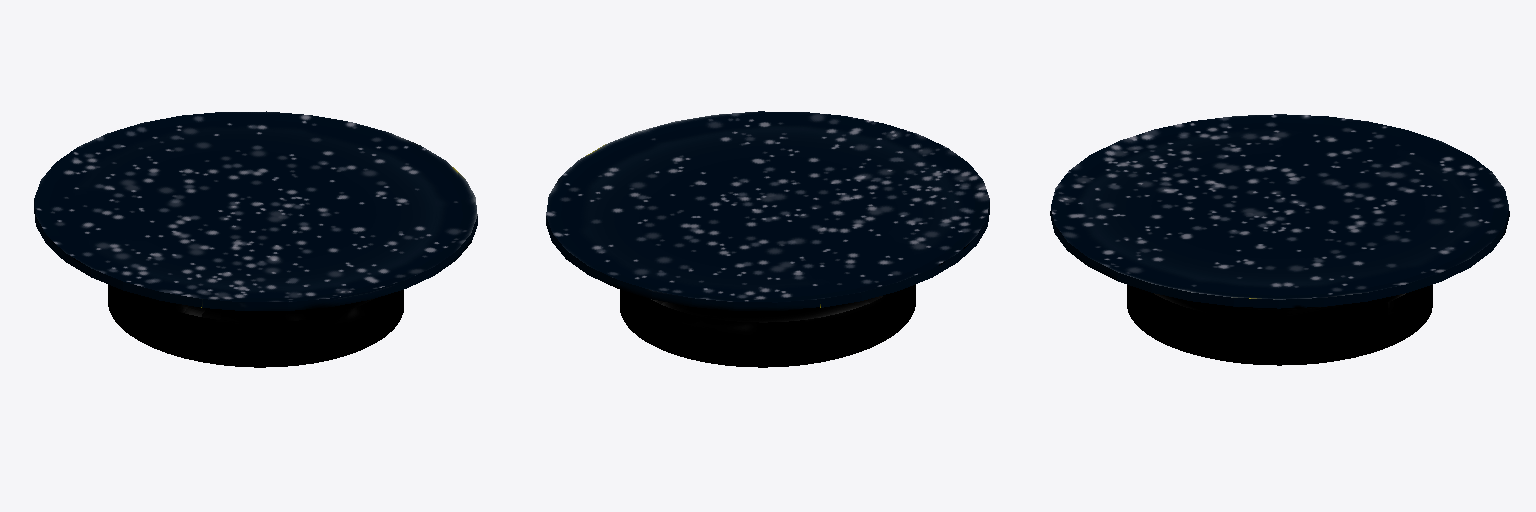
3 renders of one model, left to right at view 1: azimuth 30°, elevation 25°; view 2: azimuth 150°, elevation 25°; view 3: azimuth 270°, elevation 25°, orthographic.
Visible parts, largest first — view 1: Cylinder; view 2: Cylinder; view 3: Cylinder.
Boxes of the visible parts, x1,y1,x2,y2 form: Cylinder: [34, 111, 477, 367]; Cylinder: [546, 111, 989, 367]; Cylinder: [1050, 114, 1509, 365].
Size of the model in its own units: 3.1 by 0.7612 by 3.24.
1 materials, 1 textured.